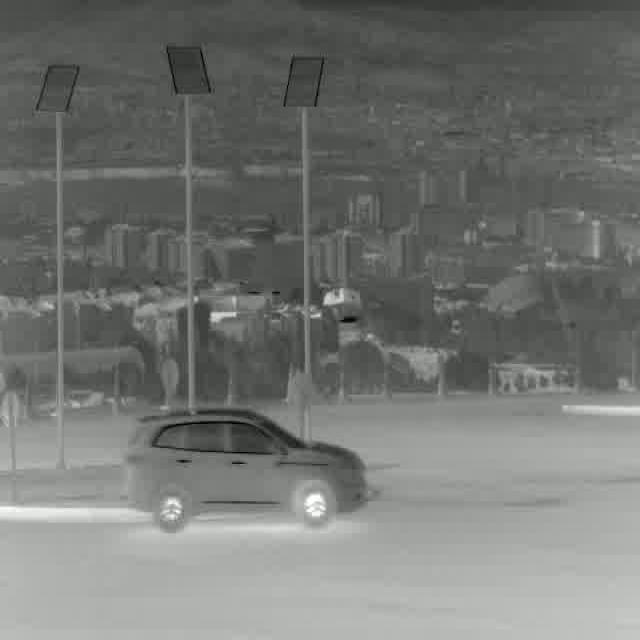Car: (125, 409, 368, 531)
